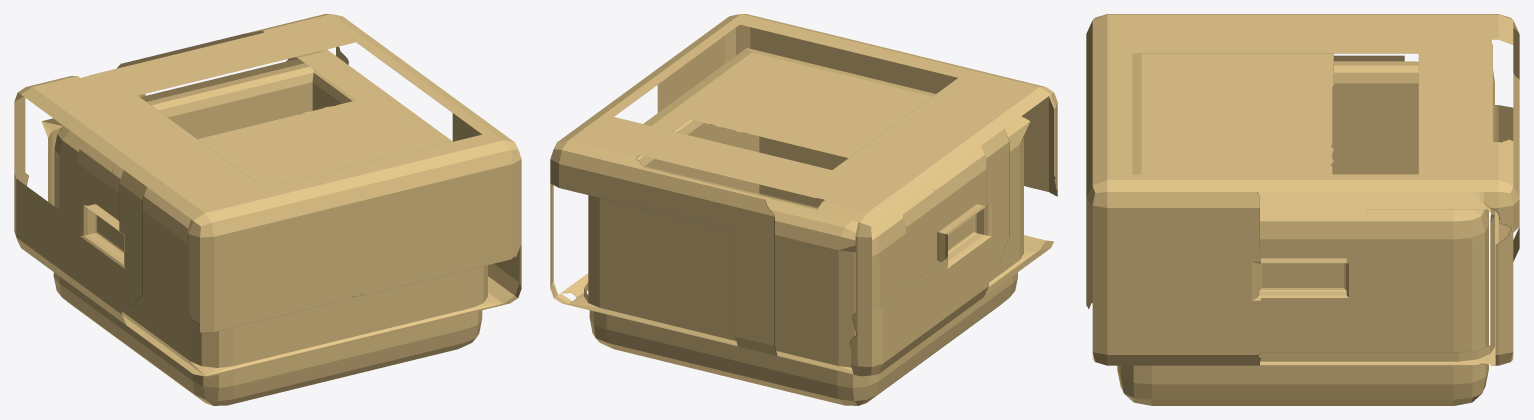
File: photo-box.fbx
3 views of the same model, side by side, from view 1: azimuth 30°, elevation 25°; view 2: azimuth 150°, elevation 25°; view 3: azimuth 270°, elevation 25° (orthographic). The views are drawn at different scales.
Visible parts, largest first — view 1: photo-box-lid, photo-box-bottom; view 2: photo-box-lid, photo-box-bottom; view 3: photo-box-lid, photo-box-bottom.
Part boxes in pixels (x1,y1,x2,y2): photo-box-lid: (14, 14, 521, 376); photo-box-bottom: (53, 63, 482, 405); photo-box-lid: (550, 14, 1057, 376); photo-box-bottom: (589, 119, 1017, 405); photo-box-lid: (1086, 14, 1519, 365); photo-box-bottom: (1117, 61, 1488, 405).
Bounding box in the file's own units: 236 × 144 × 236.
